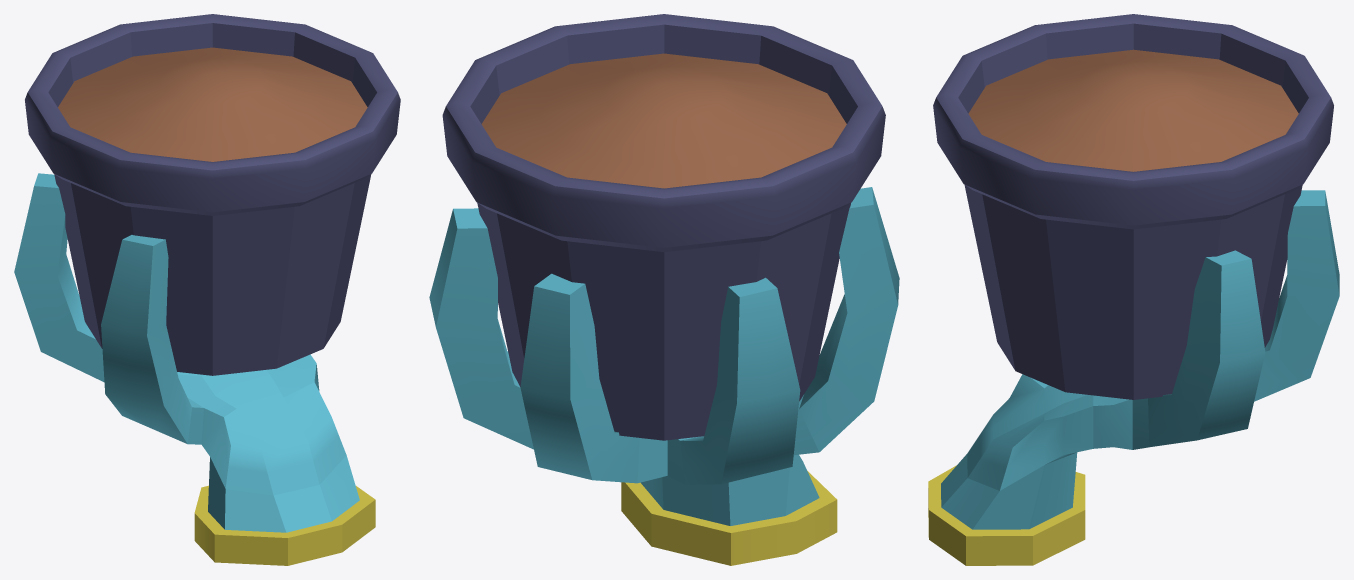
The model's file is plant_pot.fbx.
The picture shows the model from 3 angles, left to right: view 1: azimuth 30°, elevation 25°; view 2: azimuth 150°, elevation 25°; view 3: azimuth 270°, elevation 25°; orthographic projection. The views are drawn at different scales.
Parts seen in each view (by area): view 1: pot, pot_plant; view 2: pot, pot_plant; view 3: pot, pot_plant.
Part boxes in pixels (left/top/right/bottom): pot: left=25, top=14, right=400, bottom=375; pot_plant: left=14, top=173, right=375, bottom=565; pot: left=442, top=14, right=885, bottom=440; pot_plant: left=429, top=187, right=899, bottom=565; pot: left=933, top=14, right=1333, bottom=399; pot_plant: left=928, top=190, right=1339, bottom=565.
Size of the model in its own units: 1.84 by 2.25 by 1.89.
